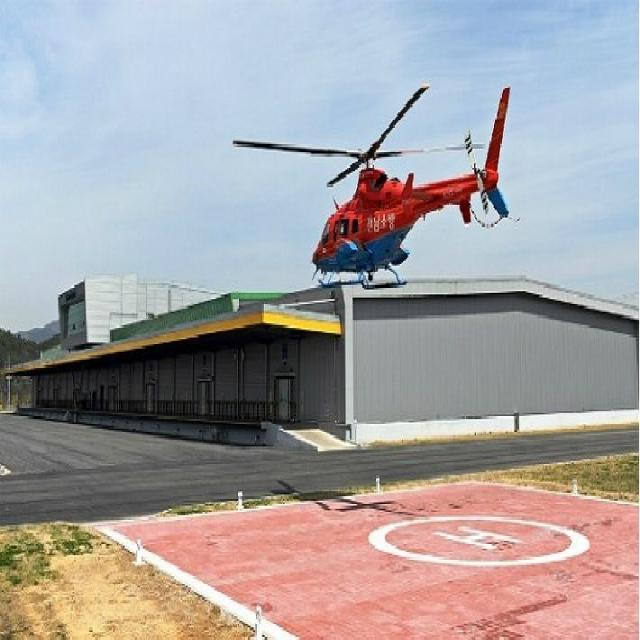helipad: (363, 509, 593, 573)
